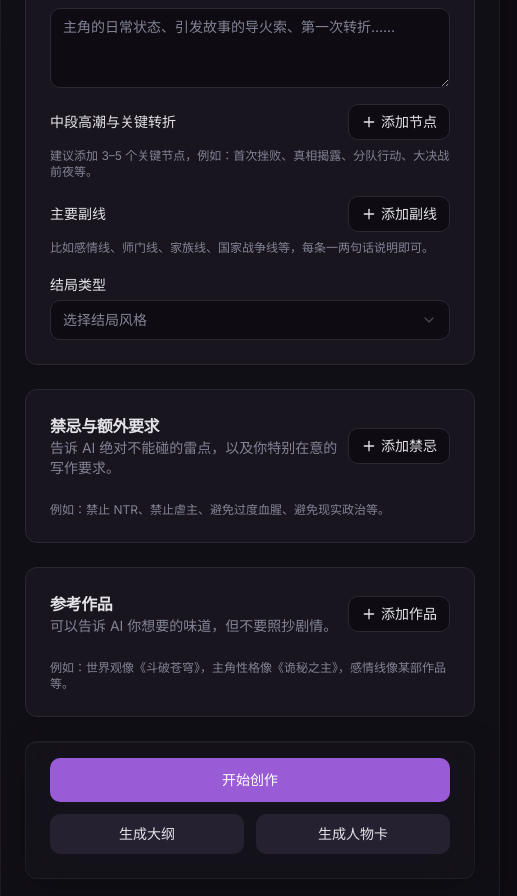
Test: NovelSettingsForm › 应当支持写作禁忌的动态添加、修改与删除，并保存状态
Later steps or results of the test are not shown.
(page scrolled)
Expected: the field with placeholder "不想出现的内容或写作雷点。" is not shown
Expected: the text "例如：禁止 NTR、禁止虐主、避免过度血腥、避免现实政治等。" is shown, [50,502,390,517]
Note: 点击添加禁忌按钮
Click the button "添加禁忌" at (399, 446), box [348,428,450,464]
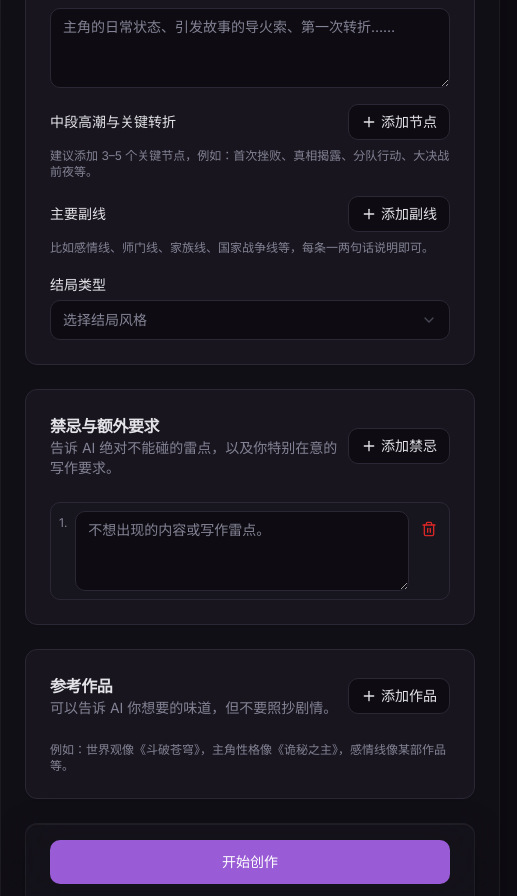
Result: the text box with placeholder "不想出现的内容或写作雷点。" is shown
Type "禁止NTR" into the text box with placeholder "不想出现的内容或写作雷点。" at (242, 551), box [75,511,409,591]
Wait 400 ms
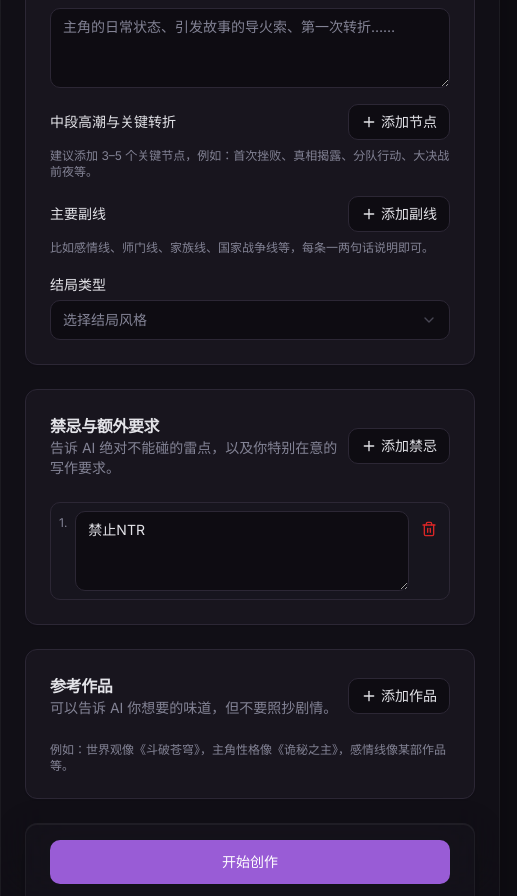
Result: the 4th button is shown at [417,515,441,543]
